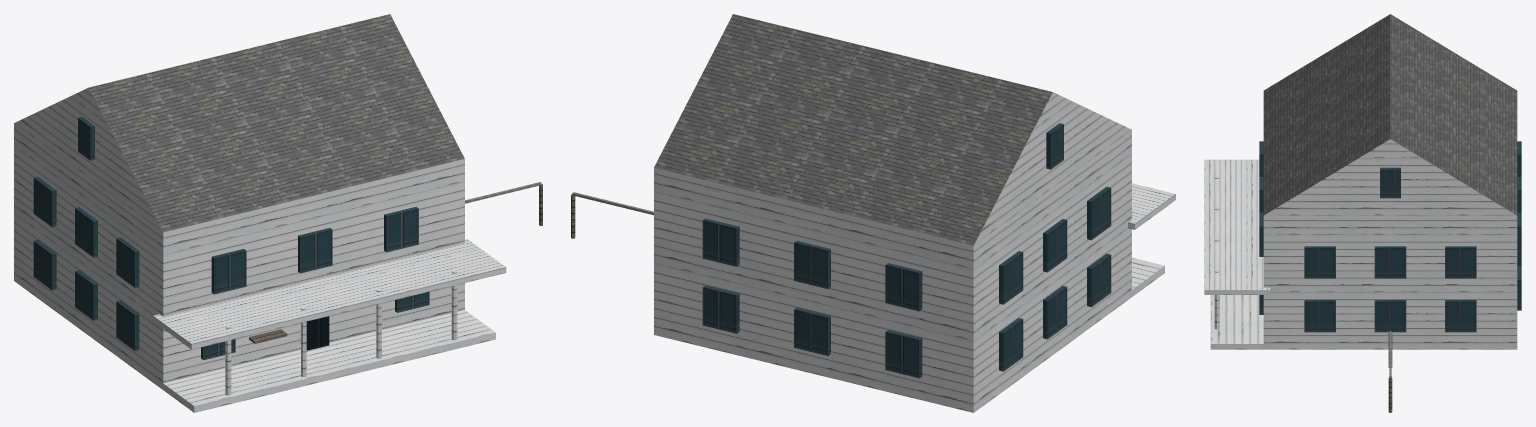
The model's file is farmhouse_lod0.gltf.
The picture shows the model from 3 angles, left to right: view 1: azimuth 30°, elevation 25°; view 2: azimuth 150°, elevation 25°; view 3: azimuth 270°, elevation 25°; orthographic projection. The views are drawn at different scales.
Visible parts, largest first — view 1: farmhouse_roof, farmhouse_walls, farmhouse_porch, farmhouse_fen_07-glass-curtain-blue_0, farmhouse_gable_ends, farmhouse_fen_07-glass-curtain-blue_1_t; view 2: farmhouse_walls, farmhouse_roof, farmhouse_fen_07-glass-curtain-blue_0, farmhouse_gable_ends, farmhouse_porch; view 3: farmhouse_roof, farmhouse_walls, farmhouse_porch, farmhouse_gable_ends, farmhouse_fen_07-glass-curtain-blue_0.
Boxes of the visible parts, x1,y1,x2,y2 form: farmhouse_roof: (89,14,464,232); farmhouse_walls: (14,123,464,389); farmhouse_porch: (153,239,506,412); farmhouse_fen_07-glass-curtain-blue_0: (33,117,429,360); farmhouse_gable_ends: (14,87,162,231); farmhouse_fen_07-glass-curtain-blue_1_t: (306,316,329,350); farmhouse_walls: (654,130,1131,412); farmhouse_roof: (654,14,1052,245); farmhouse_fen_07-glass-curtain-blue_0: (702,123,1111,378); farmhouse_gable_ends: (974,92,1131,244); farmhouse_porch: (1128,183,1175,296); farmhouse_roof: (1263,14,1517,215); farmhouse_walls: (1263,215,1517,349); farmhouse_porch: (1204,159,1269,349); farmhouse_gable_ends: (1264,139,1516,215); farmhouse_fen_07-glass-curtain-blue_0: (1259,141,1521,332).
Bounding box in the file's own units: 21.38 × 11 × 15.
